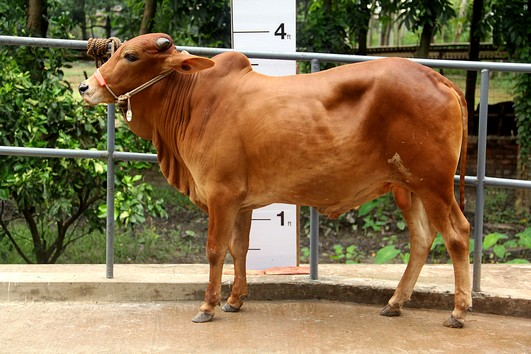cow: (71, 25, 481, 329)
